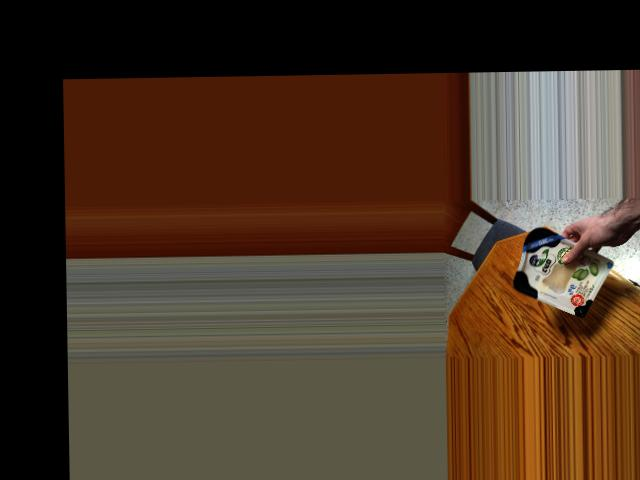cheese: (511, 221, 604, 313)
